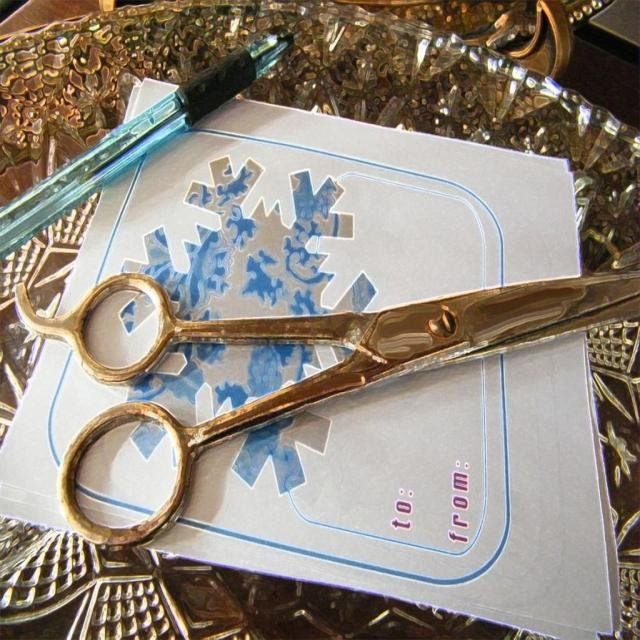scissors: (15, 257, 639, 547)
